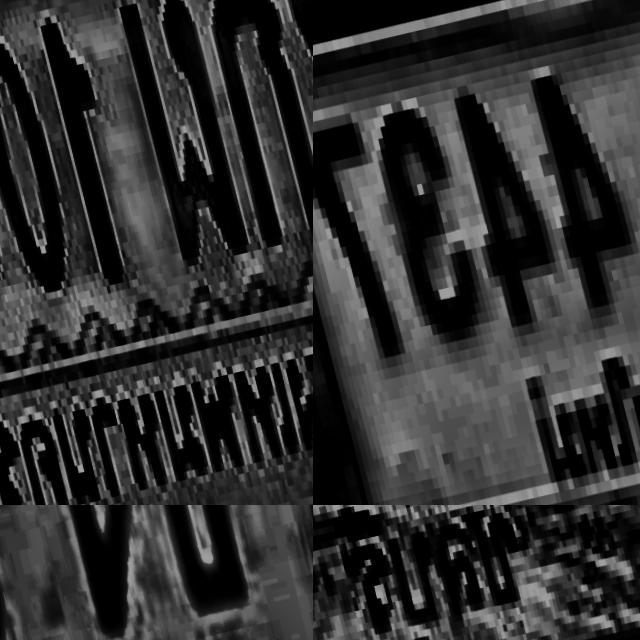license-plate: (313, 0, 640, 505), (0, 0, 313, 505), (313, 505, 640, 640), (0, 505, 313, 640)
